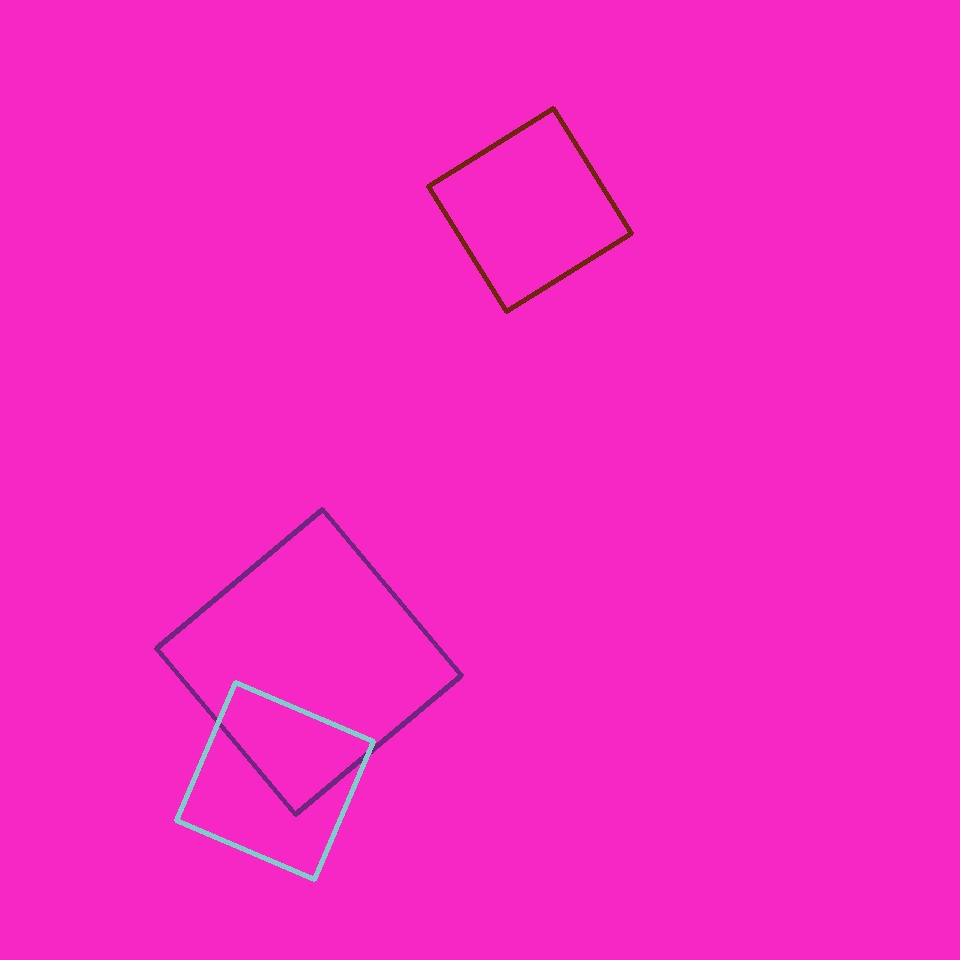square: (157, 510, 462, 814), (429, 108, 632, 312), (176, 682, 374, 880)
